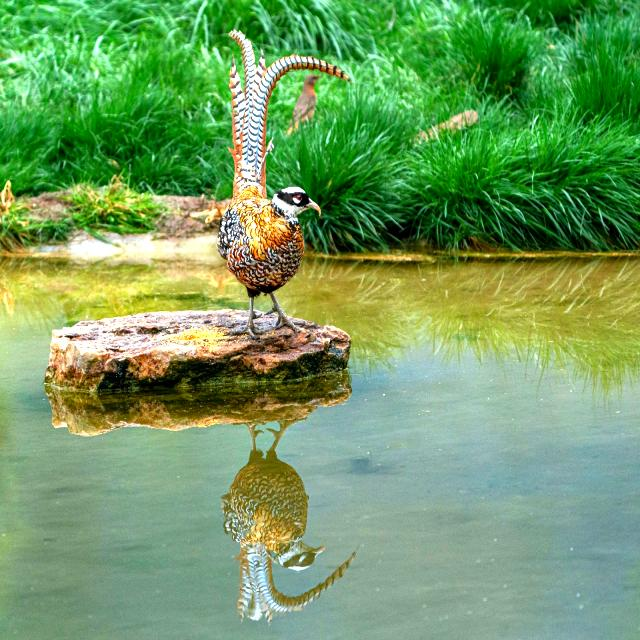Reeves-s Pheasant: (227, 29, 354, 202)
